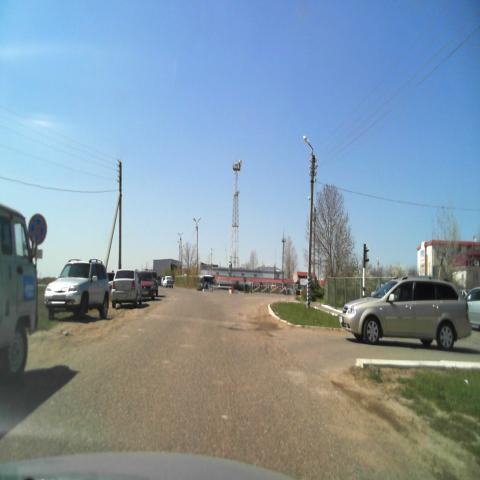3_27: (26, 212, 48, 247)
